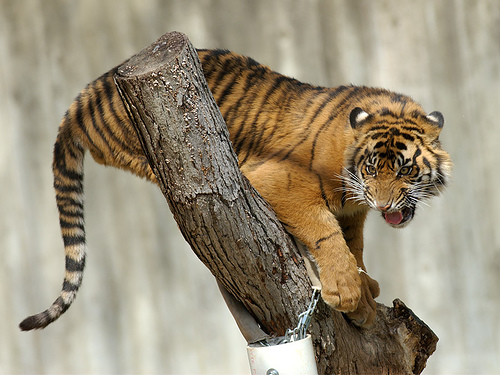Tigre: (75, 41, 448, 301)
